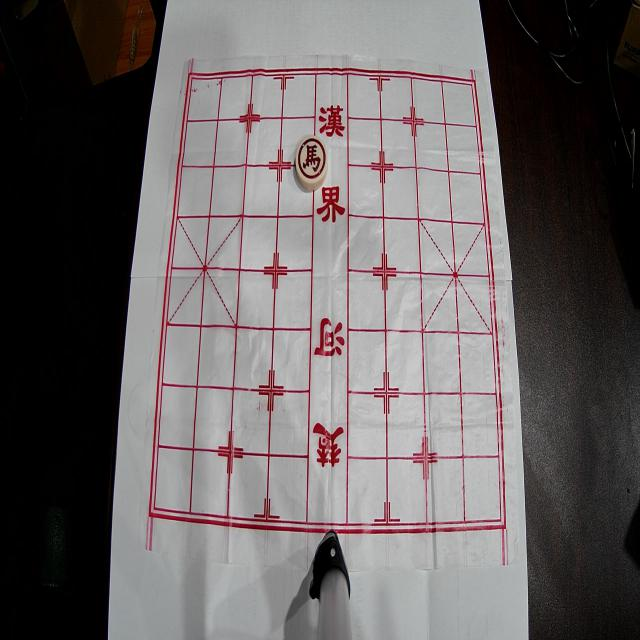red-horse: (296, 135, 328, 191)
